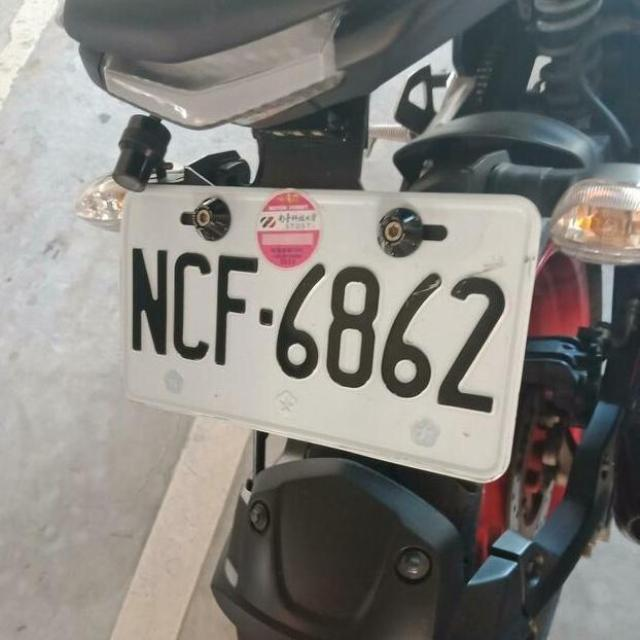W: (97, 159, 547, 490)
